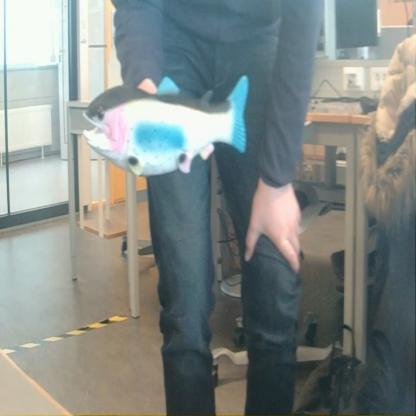rubberfish: (80, 68, 251, 180)
